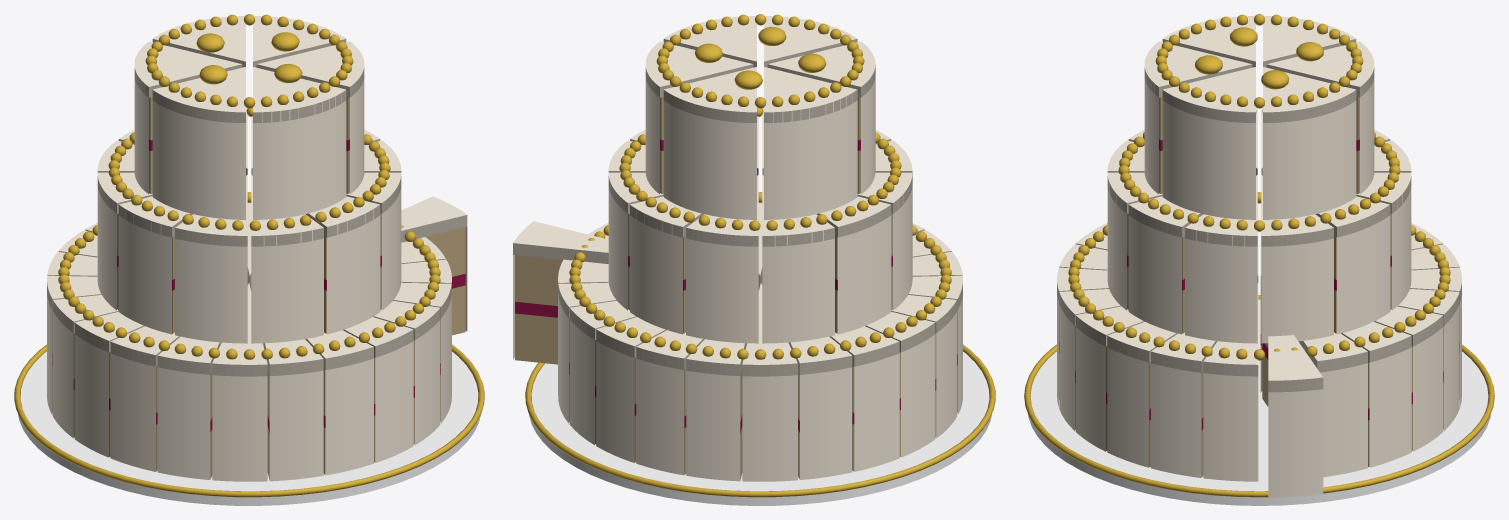
The model's file is torta-30cm-10alto-3p-40porc-vainilla.glb.
The picture shows the model from 3 angles, left to right: view 1: azimuth 30°, elevation 25°; view 2: azimuth 150°, elevation 25°; view 3: azimuth 270°, elevation 25°; orthographic projection.
Size of the model in its own units: 0.3815 by 0.3056 by 0.365.
